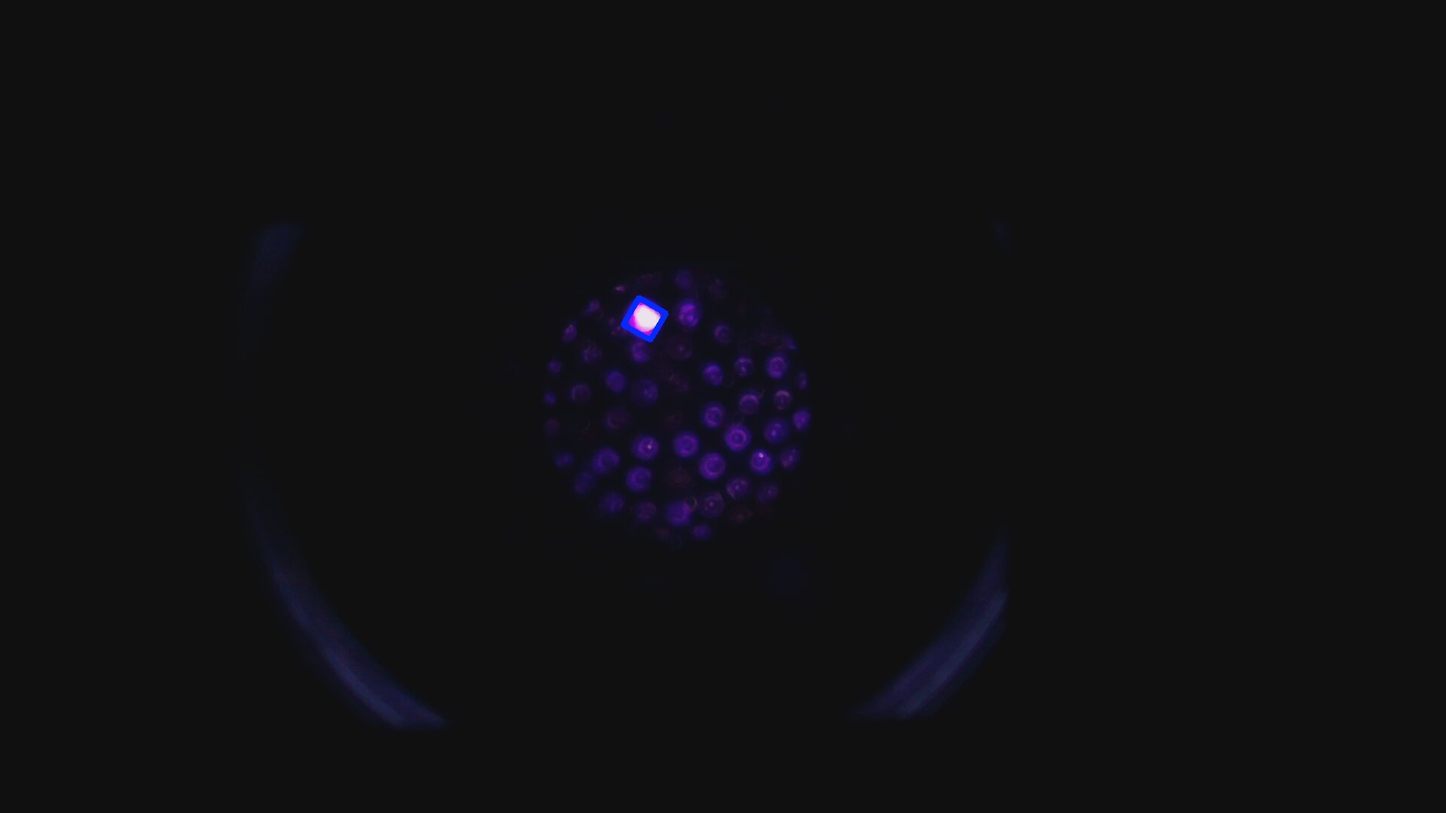plastic: (616, 290, 674, 348)
